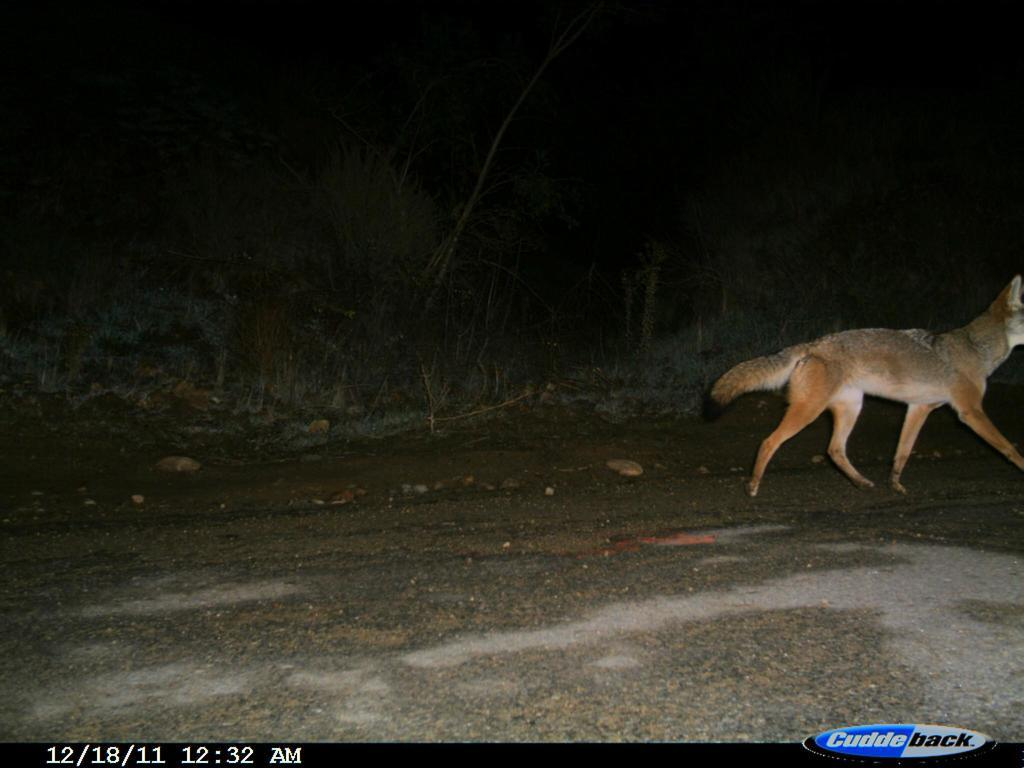coyote: (689, 273, 1021, 498)
